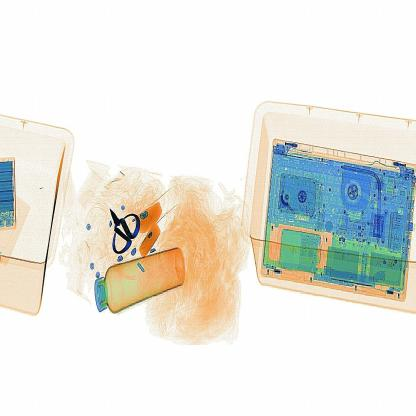gun: (102, 199, 144, 268)
